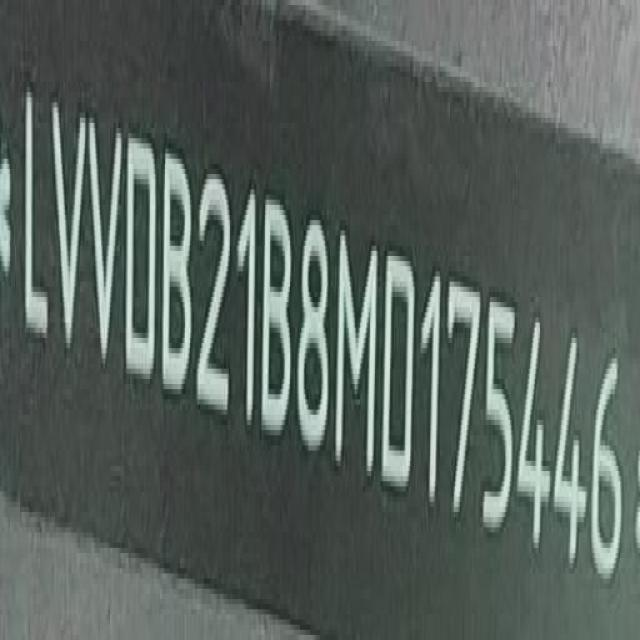1: (235, 186, 257, 429), (420, 267, 441, 517)
2: (200, 174, 233, 420)
4: (553, 324, 588, 576), (521, 314, 552, 560)
5: (484, 288, 514, 546)
6: (595, 345, 626, 587)
7: (446, 273, 480, 528)
8: (299, 213, 332, 449)
B: (261, 192, 295, 438), (162, 149, 194, 399)
D: (384, 250, 420, 497), (126, 127, 160, 380)
L: (21, 81, 50, 344)
M: (336, 231, 380, 482)
V: (49, 92, 86, 358), (89, 108, 125, 376)
